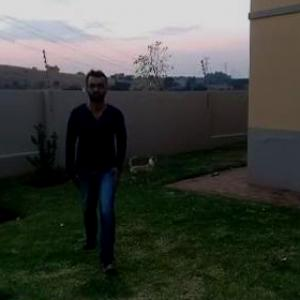follow: (73, 73, 126, 238)
